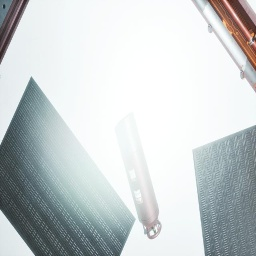NitrogenTank ,: (116, 111, 162, 239)
